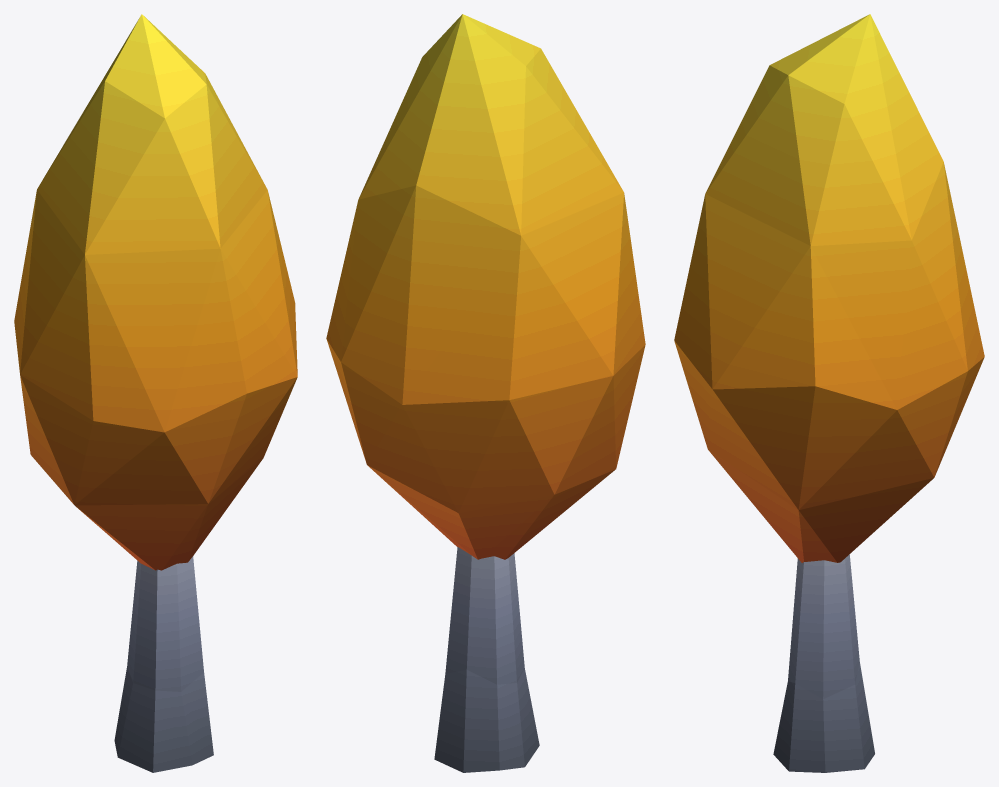
The model's file is Birch_A.glb.
The picture shows the model from 3 angles, left to right: view 1: azimuth 30°, elevation 25°; view 2: azimuth 150°, elevation 25°; view 3: azimuth 270°, elevation 25°; orthographic projection. The views are drawn at different scales.
Parts seen in each view (by area): view 1: Birch_Leaves_A, Birch_Trunk_A; view 2: Birch_Leaves_A, Birch_Trunk_A; view 3: Birch_Leaves_A, Birch_Trunk_A.
Boxes of the visible parts, left/top/right/bottom form: Birch_Leaves_A: left=14, top=14, right=297, bottom=570; Birch_Trunk_A: left=114, top=556, right=213, bottom=772; Birch_Leaves_A: left=326, top=14, right=645, bottom=559; Birch_Trunk_A: left=434, top=547, right=539, bottom=772; Birch_Leaves_A: left=674, top=14, right=984, bottom=562; Birch_Trunk_A: left=773, top=554, right=874, bottom=772.
Bounding box in the file's own units: 2.12 × 5.63 × 2.14.
1 material, 1 textured.
